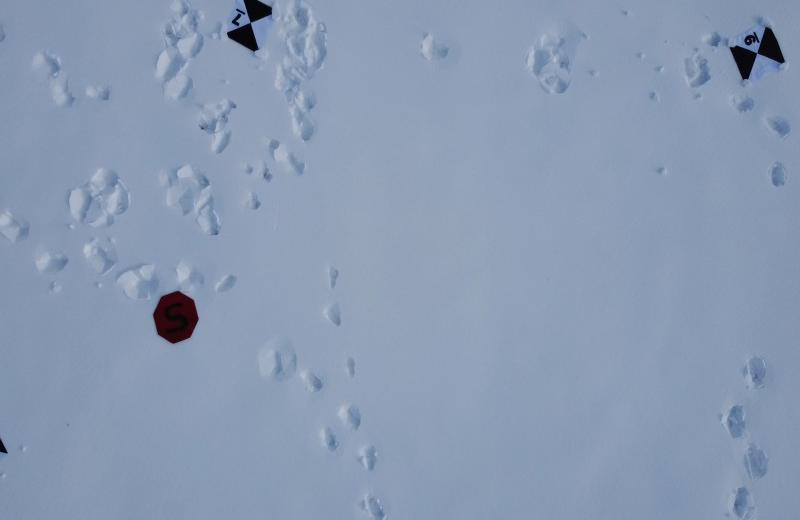Octagon: (152, 289, 199, 344)
